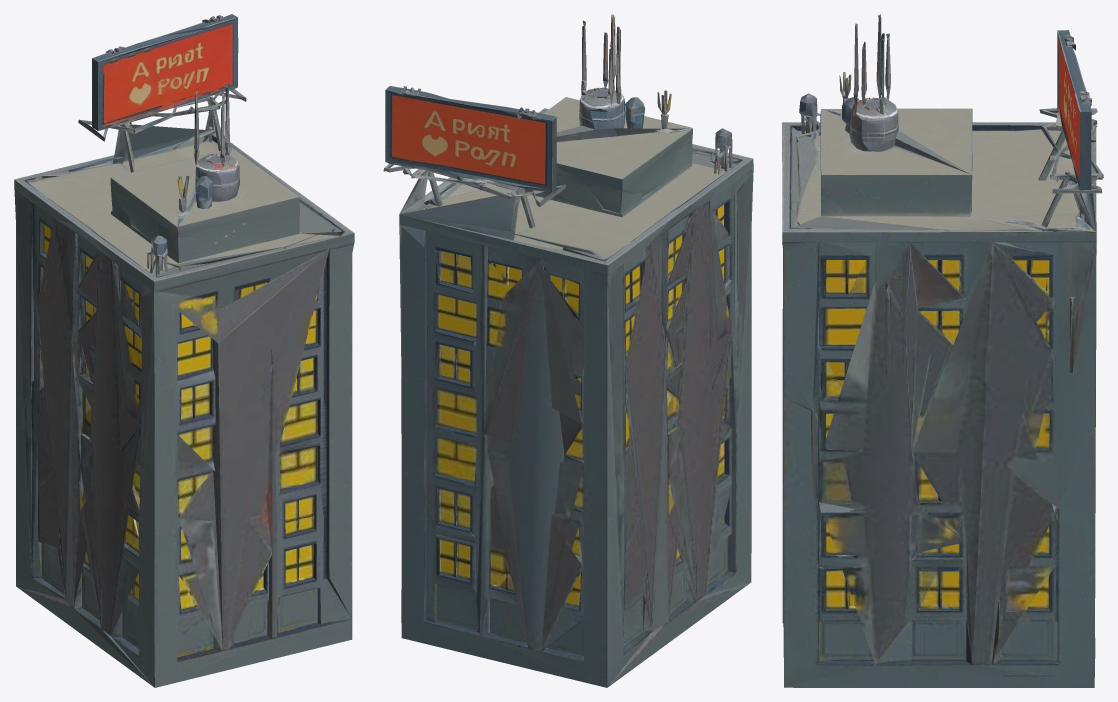
File: predio-topo.glb
3 views of the same model, side by side, from view 1: azimuth 30°, elevation 25°; view 2: azimuth 150°, elevation 25°; view 3: azimuth 270°, elevation 25° (orthographic). The views are drawn at different scales.
Bounding box in the file's own units: 0.7913 × 1.9 × 0.9058.
Materials: 1 (1 with a texture image).
